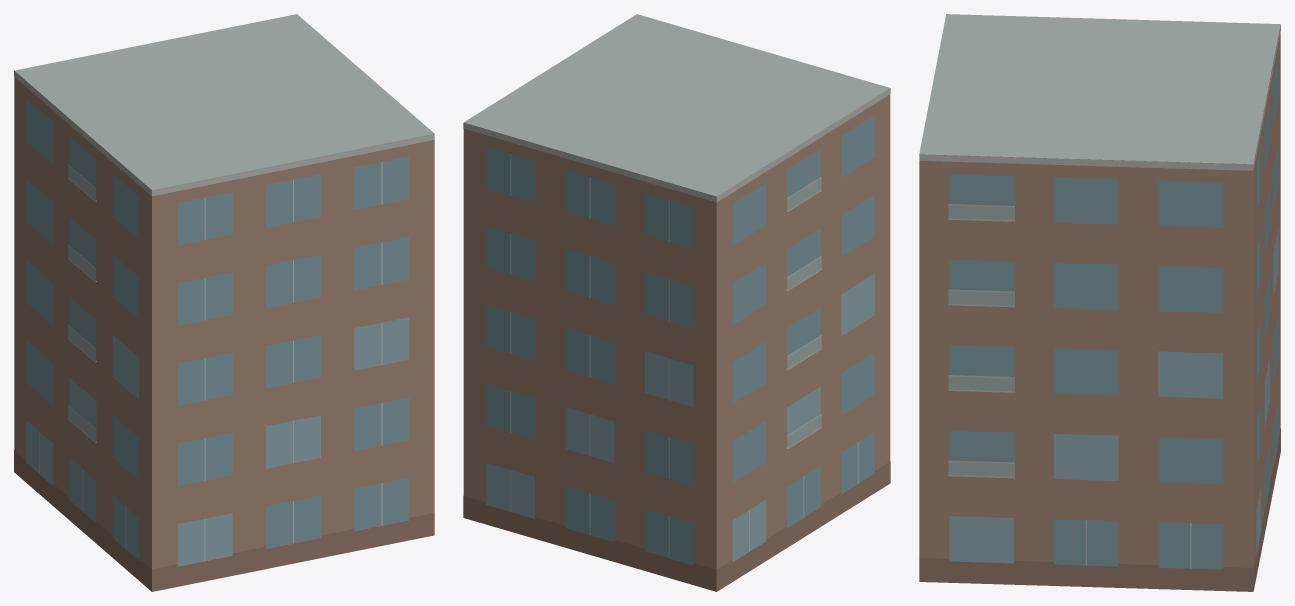
Rendered from survey-upis-32592102.glb.
3 renders of one model, left to right at view 1: azimuth 30°, elevation 25°; view 2: azimuth 150°, elevation 25°; view 3: azimuth 270°, elevation 25°, orthographic. The views are drawn at different scales.
Visible parts, largest first — view 1: survey-upis-32592102.tmp; view 2: survey-upis-32592102.tmp; view 3: survey-upis-32592102.tmp.
Boxes of the visible parts, x1,y1,x2,y2 form: survey-upis-32592102.tmp: (14, 14, 434, 591); survey-upis-32592102.tmp: (463, 14, 890, 591); survey-upis-32592102.tmp: (919, 14, 1280, 591).
Size of the model in its own units: 12.07 by 16 by 12.27.
